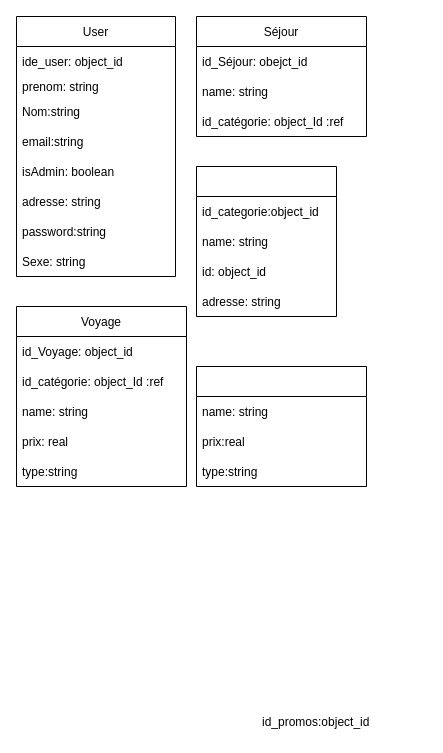
This 443x753 diagram has some shape labels left out. Here are the shapes that lost their labels. From the top down, the box of each, then its label:
(196, 166, 336, 316): Categories
(196, 366, 366, 486): Promos
